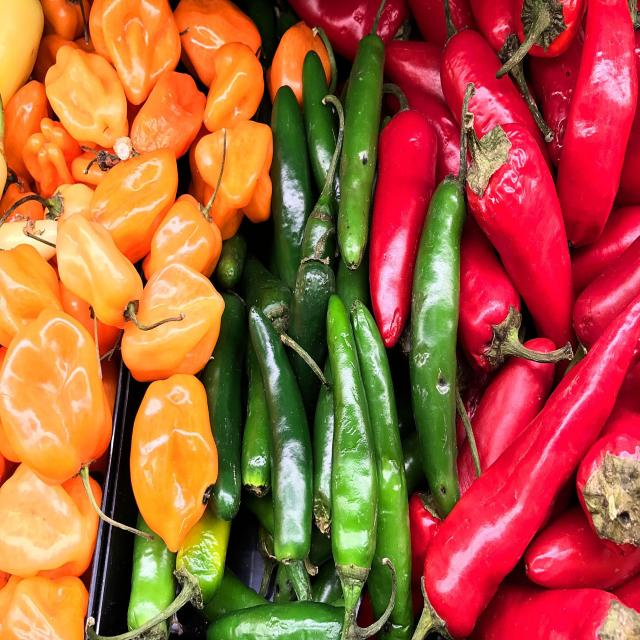Chilli Pepper: (400, 293, 640, 624), (438, 26, 612, 328), (410, 110, 488, 524), (307, 296, 402, 627), (249, 306, 337, 605), (554, 2, 640, 292), (0, 308, 120, 502), (122, 339, 234, 546), (189, 277, 264, 533), (0, 230, 123, 386), (363, 76, 433, 340), (257, 83, 332, 322), (116, 240, 234, 391), (0, 70, 97, 238), (335, 3, 394, 275), (188, 101, 280, 264), (51, 198, 148, 341), (77, 150, 192, 269), (0, 454, 104, 580), (123, 64, 220, 189), (150, 168, 230, 311), (294, 40, 352, 237), (39, 45, 138, 155), (125, 475, 191, 640), (86, 0, 185, 107), (4, 542, 98, 640), (172, 0, 264, 96), (266, 8, 332, 134), (197, 45, 274, 152)
